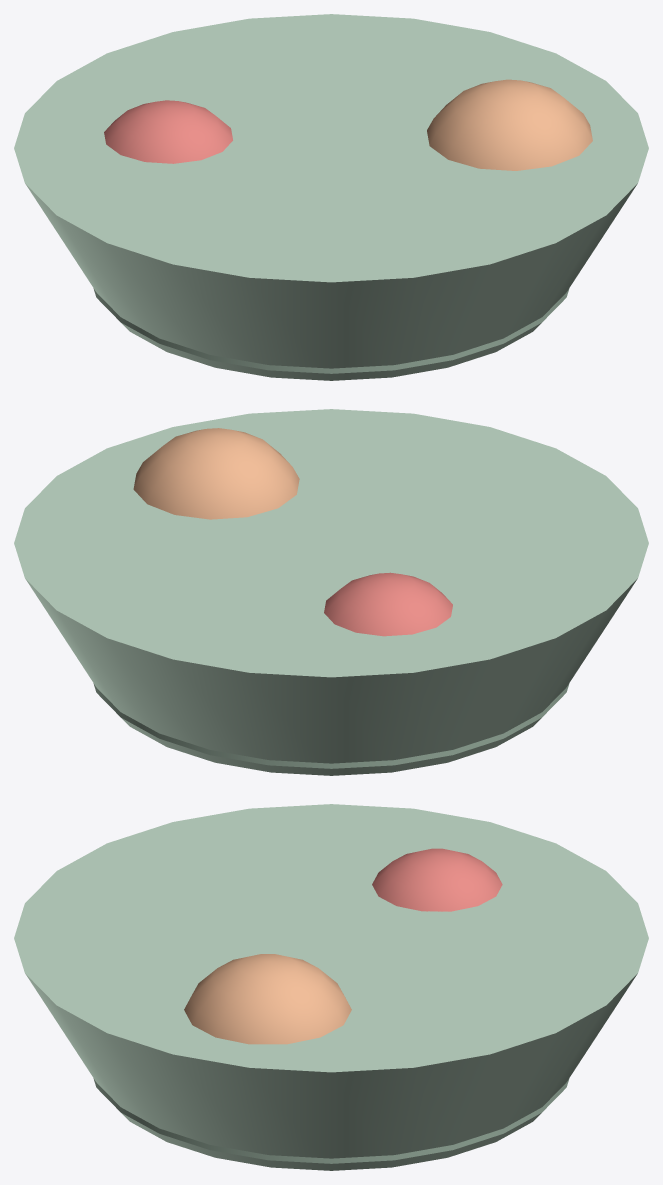
The model's file is fruit_bowl.glb.
The picture shows the model from 3 angles, top to bottom: view 1: azimuth 30°, elevation 25°; view 2: azimuth 150°, elevation 25°; view 3: azimuth 270°, elevation 25°; orthographic projection.
Parts seen in each view (by area): view 1: wall.001, f1, f2, bottom.001; view 2: wall.001, f1, f2, bottom.001; view 3: wall.001, f1, f2, bottom.001.
Part boxes in pixels (left/top/right/bottom): wall.001: left=14, top=14, right=648, bottom=380; f1: left=427, top=79, right=592, bottom=170; f2: left=104, top=100, right=232, bottom=163; bottom.001: left=93, top=288, right=569, bottom=373; wall.001: left=14, top=409, right=648, bottom=775; f1: left=133, top=428, right=299, bottom=519; f2: left=324, top=572, right=452, bottom=636; bottom.001: left=93, top=683, right=569, bottom=768; wall.001: left=14, top=804, right=648, bottom=1170; f1: left=184, top=954, right=351, bottom=1044; f2: left=372, top=848, right=502, bottom=911; bottom.001: left=93, top=1078, right=569, bottom=1163.
Size of the model in its own units: 0.3 by 0.095 by 0.3.
